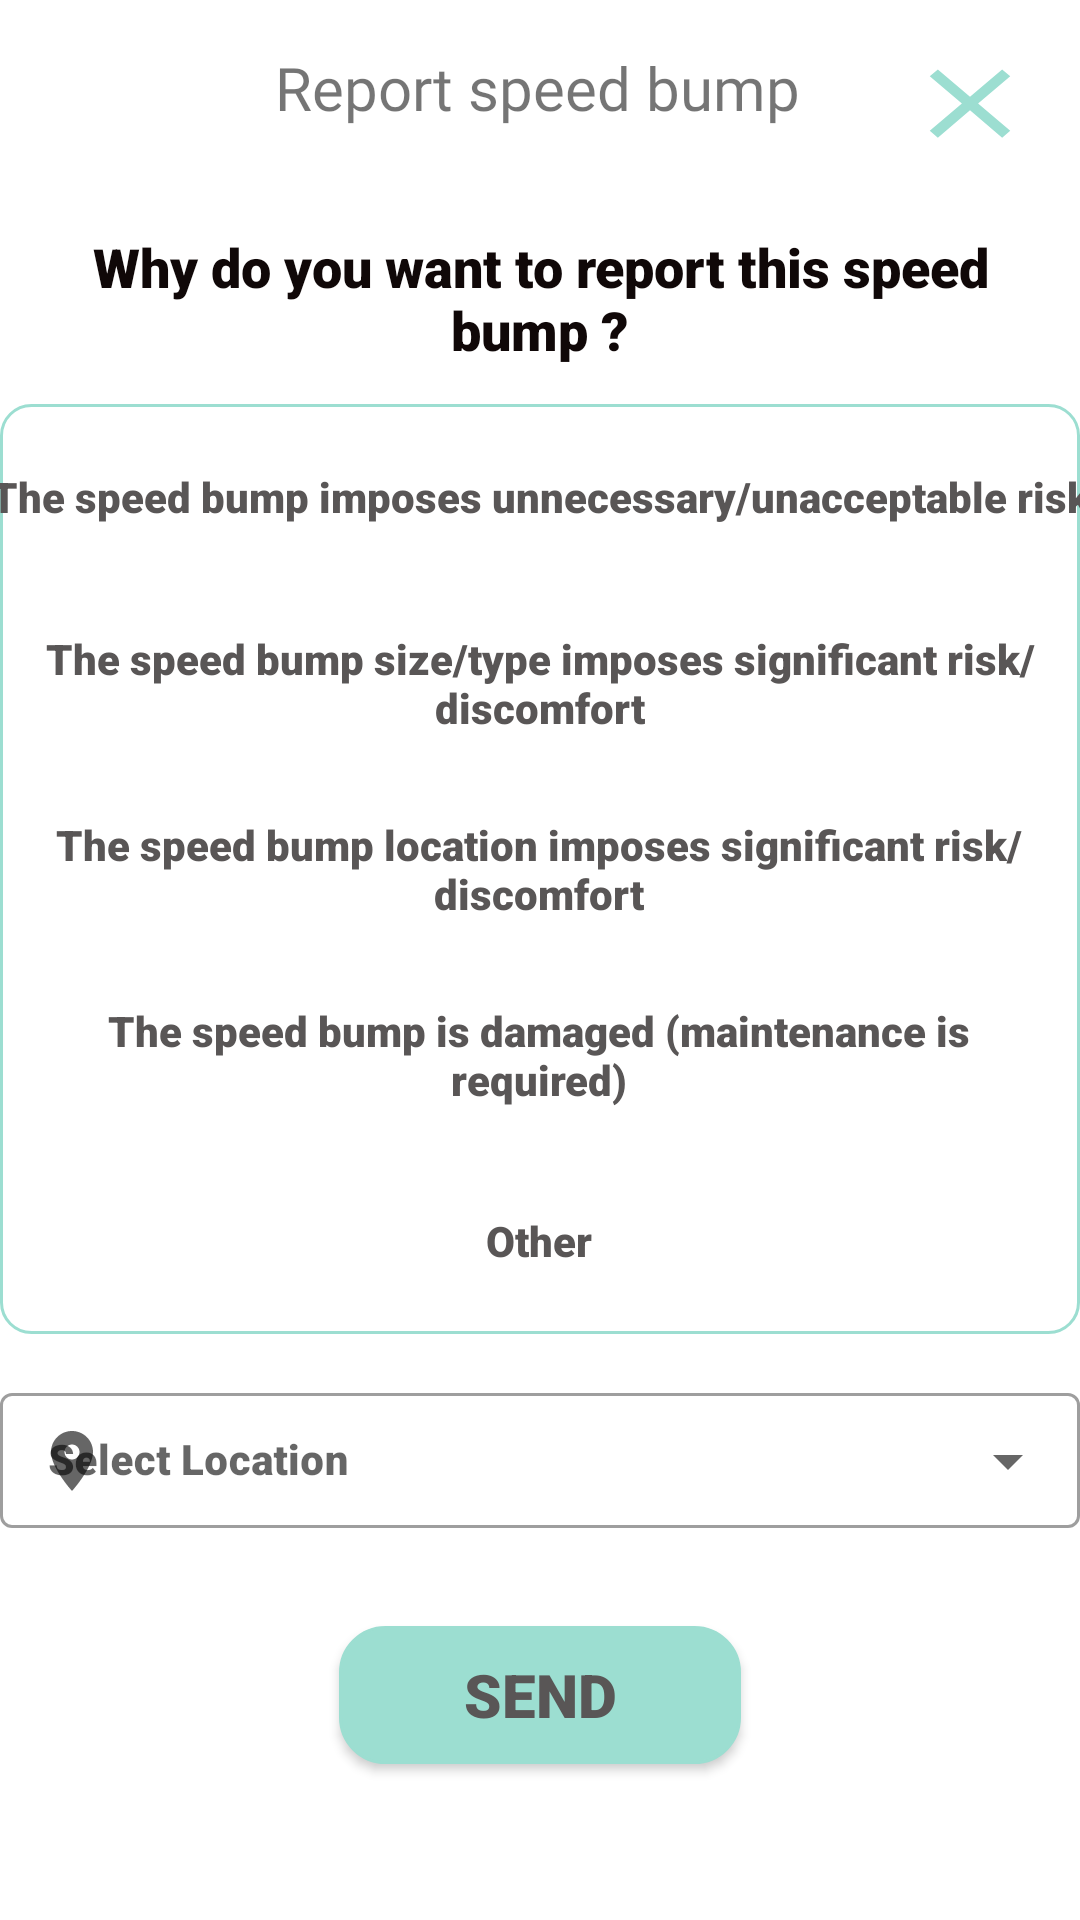

Named icons in this screenshot (1080px×1920px) and their bounding boxes, rect(x1, y1, x2, y2):
close: rect(930, 70, 1010, 138)
